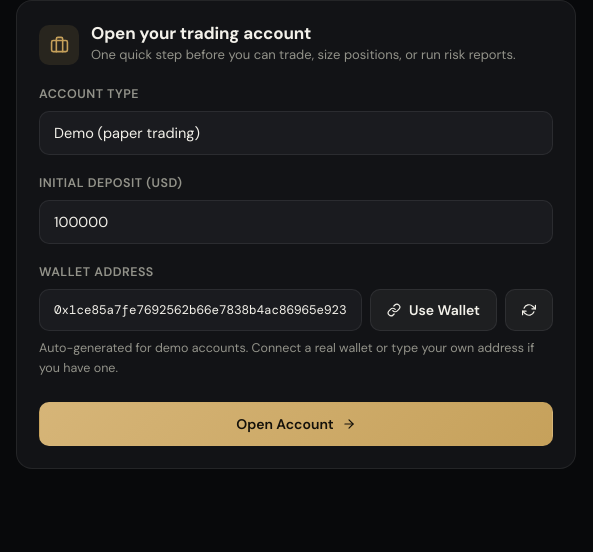
Test: CreateAccountPrompt › shows the server error and allows retrying
Step 1. Click the button "Open Account" → (296, 424), box [39,402,553,446]
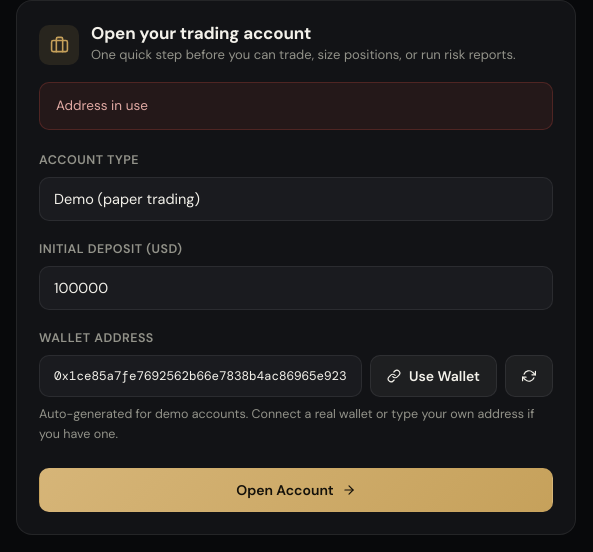
Expected: the text "Address in use" is shown, [39,82,553,130]
Step 2. Click the button "Open Account" → (296, 490), box [39,468,553,512]
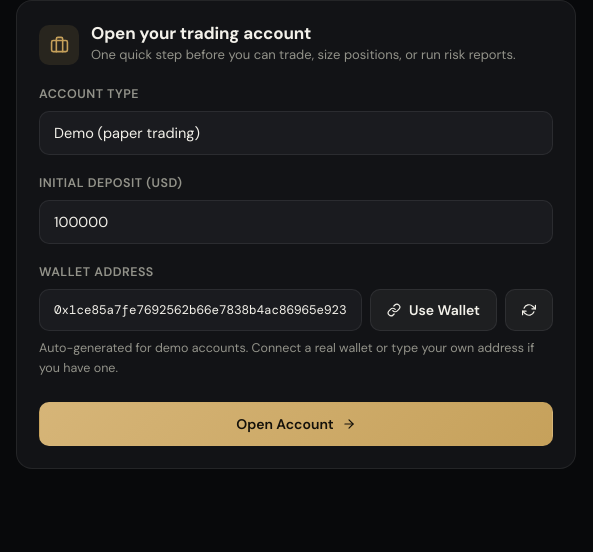
Expected: the text "Address in use" is gone
